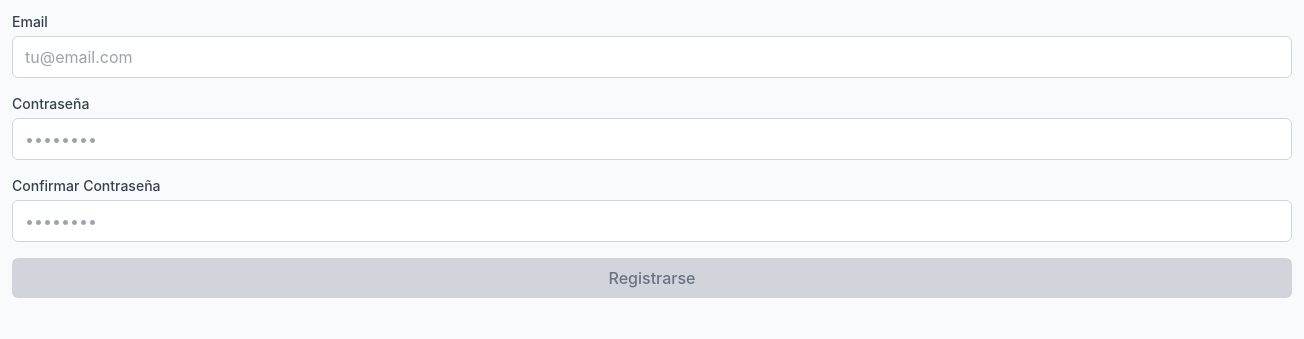
Test: RegisterForm › should show error for weak password (less than 8 characters)
Type "Pass1" into the password field labelled "Contraseña" at (652, 139), box [12,118,1292,160]
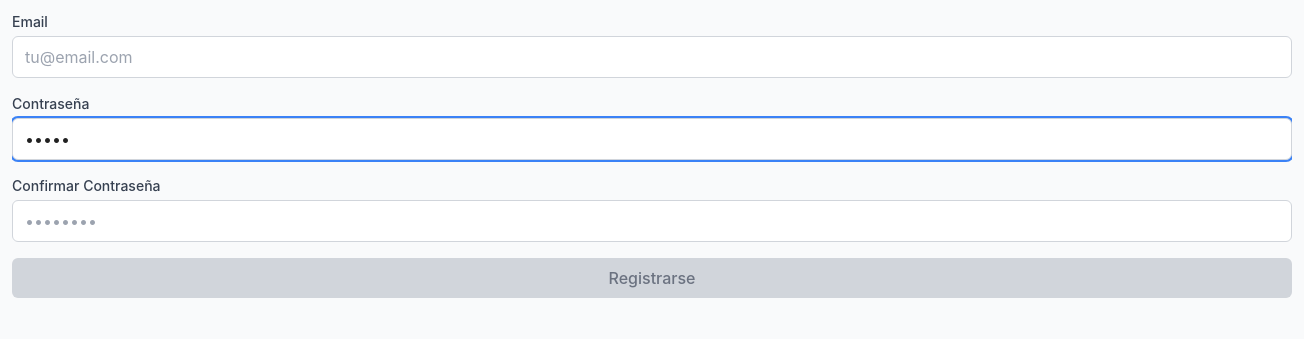
Press Tab
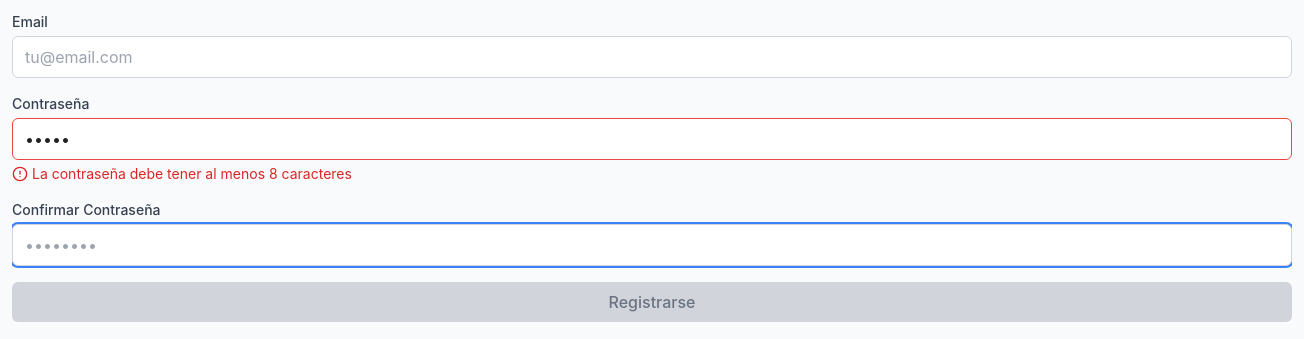
Result: the text "La contraseña debe tener al menos 8 caracteres" is shown at [12,165,352,182]
